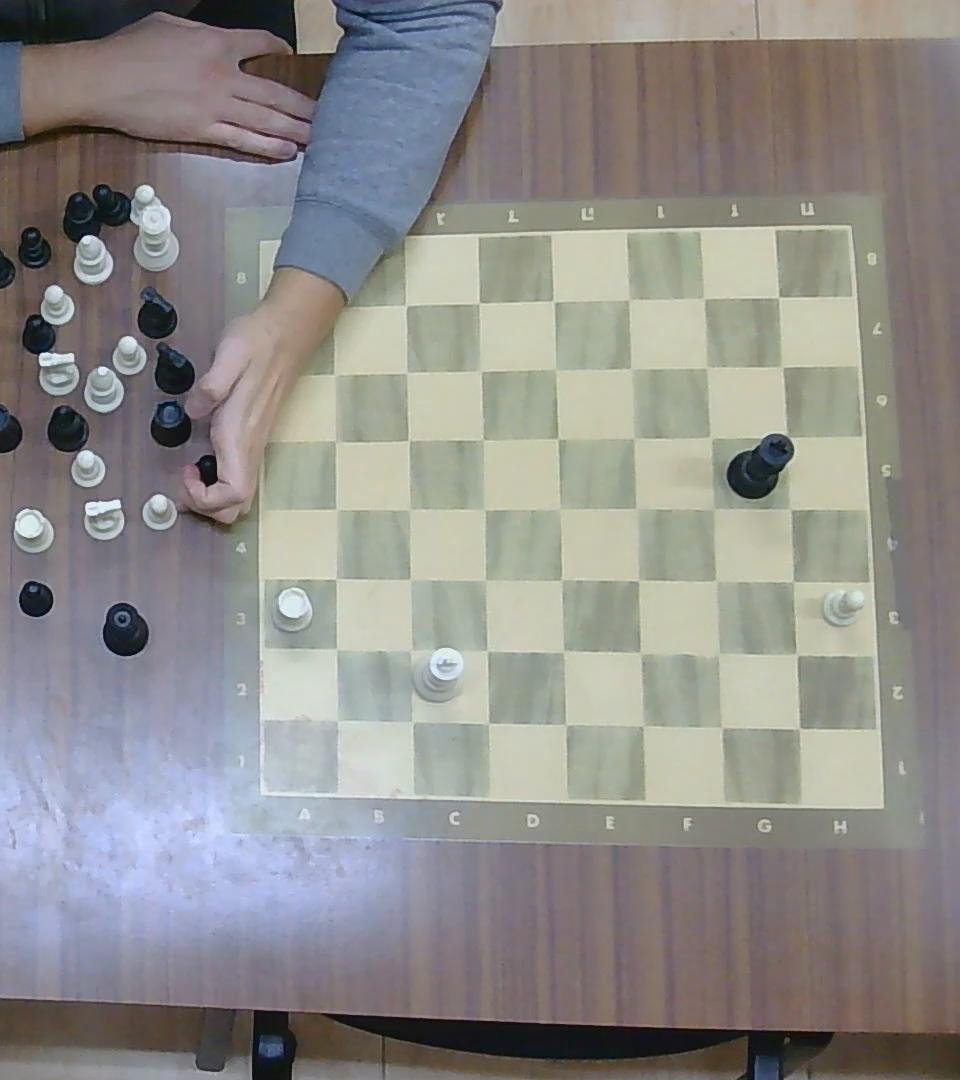xcorner: (704, 708, 735, 742), (782, 710, 813, 744), (471, 705, 502, 739), (702, 638, 734, 670), (548, 707, 579, 740), (626, 709, 657, 741), (320, 702, 351, 734), (781, 637, 812, 668), (391, 287, 421, 319), (395, 704, 425, 736), (315, 287, 345, 319), (625, 637, 655, 668), (622, 563, 652, 594), (539, 283, 569, 314), (394, 634, 425, 664), (464, 284, 493, 316), (548, 636, 578, 666), (471, 636, 501, 666), (615, 283, 645, 313), (700, 565, 730, 595), (320, 563, 350, 593), (699, 492, 728, 523), (776, 492, 805, 523), (548, 565, 577, 595), (623, 494, 652, 524), (619, 351, 648, 381), (691, 282, 720, 311), (767, 351, 796, 380), (693, 351, 722, 380), (777, 567, 806, 596), (543, 353, 572, 382), (466, 353, 495, 382), (321, 633, 350, 662), (319, 358, 348, 387), (470, 566, 500, 594), (547, 495, 576, 523), (621, 422, 649, 451), (698, 422, 726, 451), (470, 495, 499, 523), (765, 282, 793, 311), (392, 356, 420, 385), (395, 564, 423, 593), (772, 421, 801, 449), (393, 426, 422, 454), (546, 424, 573, 452), (395, 494, 423, 521), (469, 425, 497, 452), (323, 494, 349, 521), (320, 426, 348, 451)
